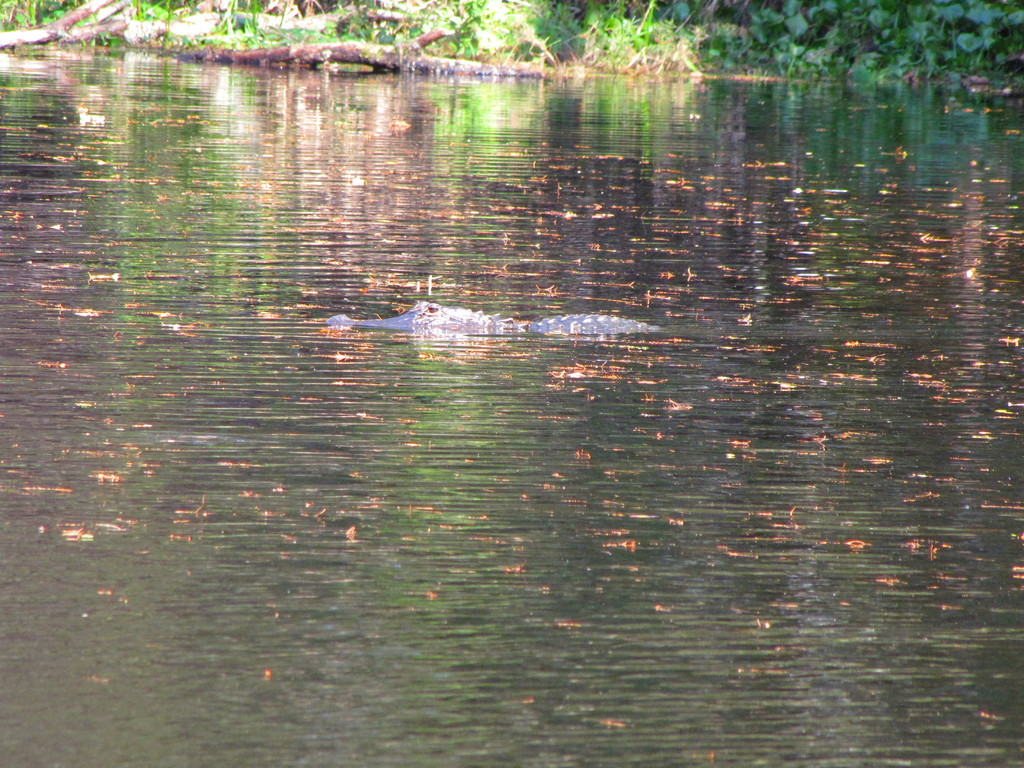Animal: (329, 301, 661, 328)
